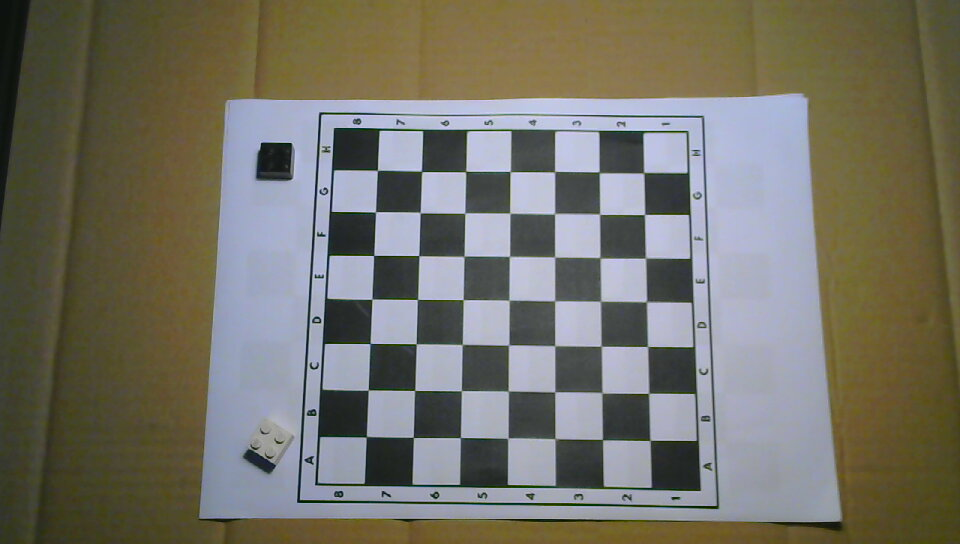bp: (256, 139, 295, 184)
wp: (244, 417, 294, 467)
